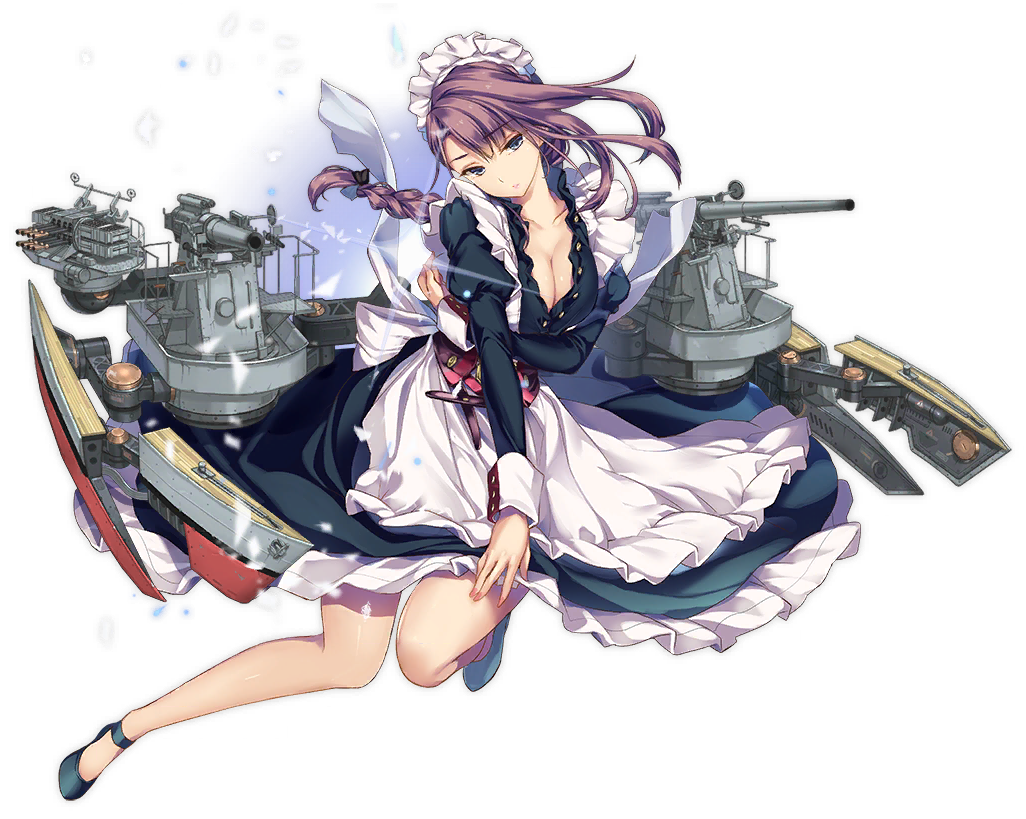person: (109, 53, 679, 819)
